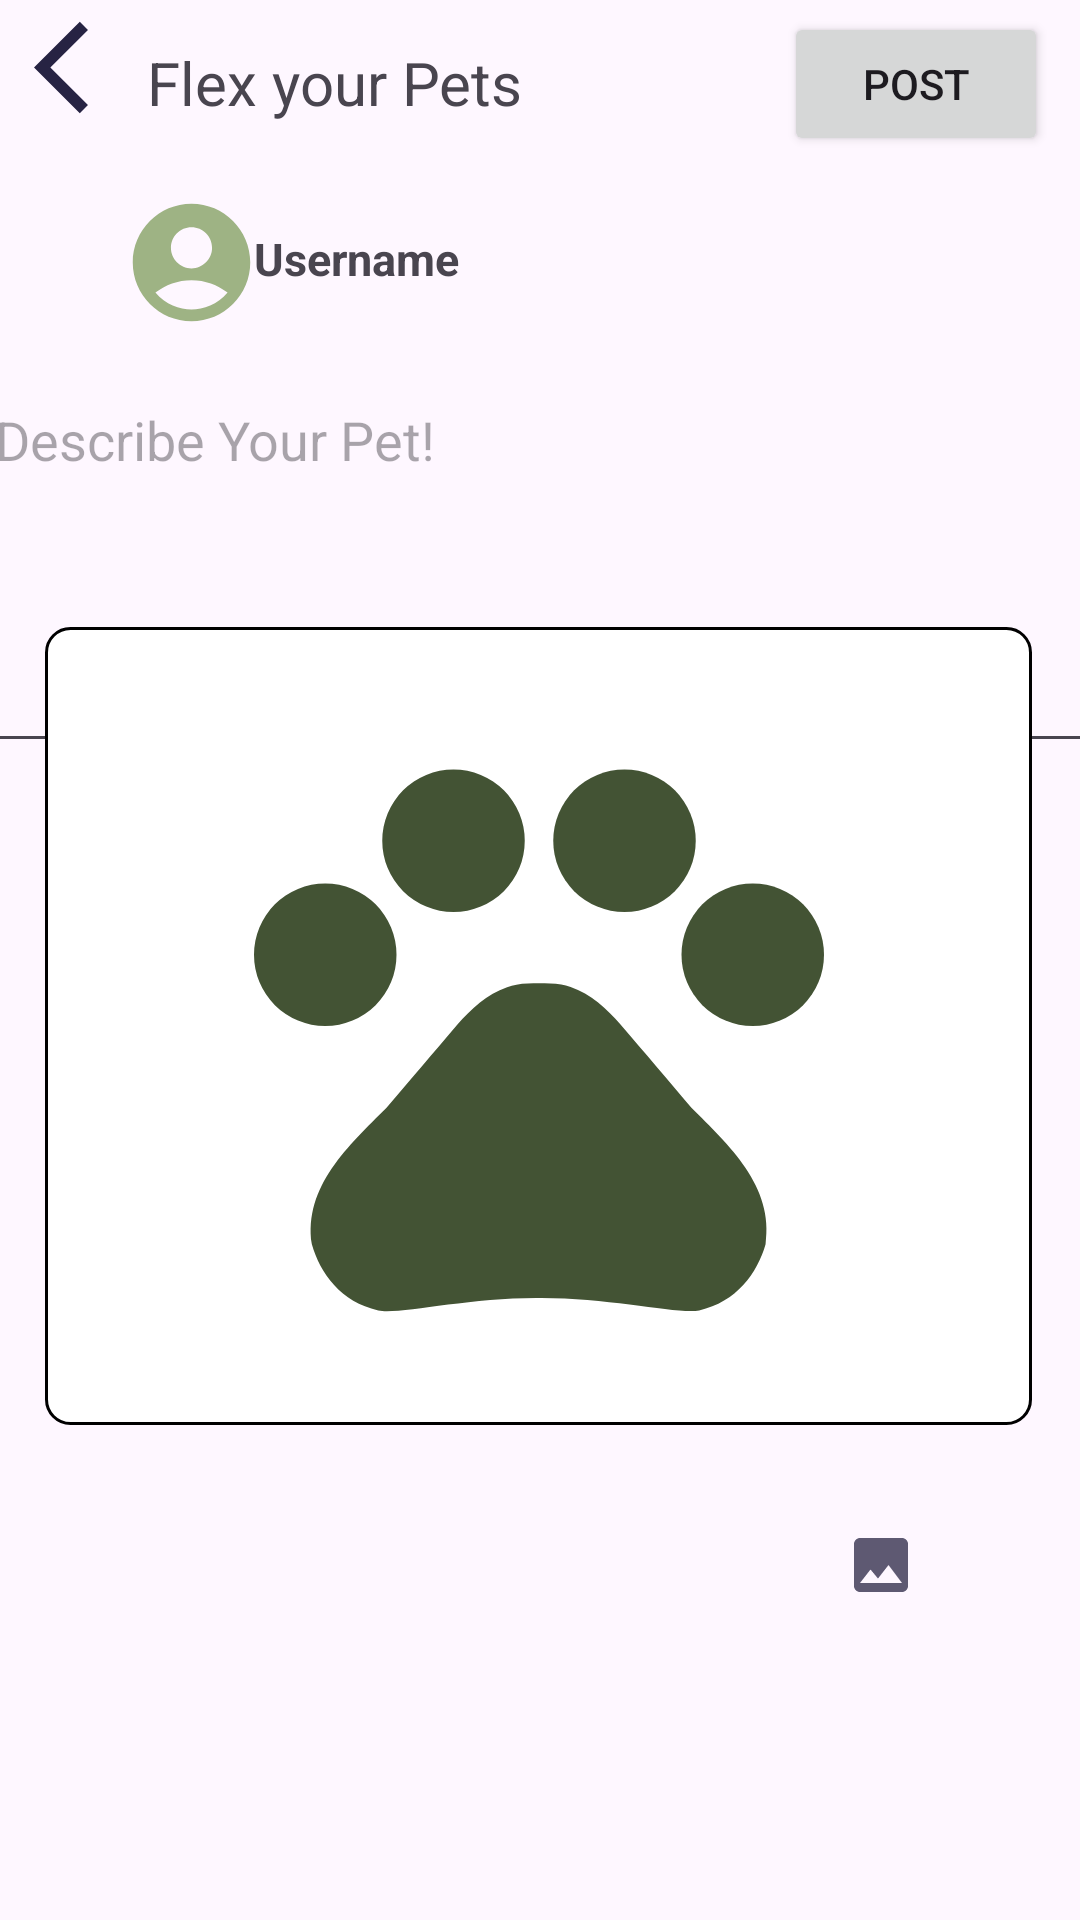

Icon click points for this 1080*1920 phone screenshot, format point (x, y):
arrow pet info: point (61, 67)
